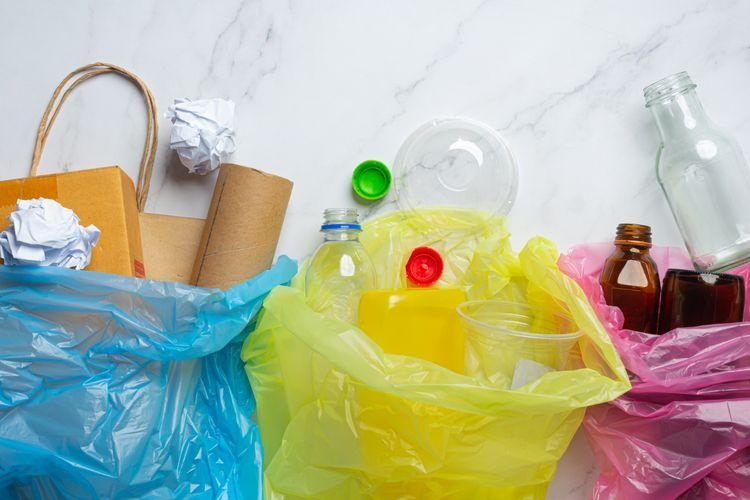HDPE: (403, 247, 445, 287)
LDPE: (263, 294, 554, 500), (0, 272, 259, 500), (594, 323, 750, 500), (351, 159, 391, 202)
PETE: (390, 116, 521, 241), (302, 208, 378, 317)
